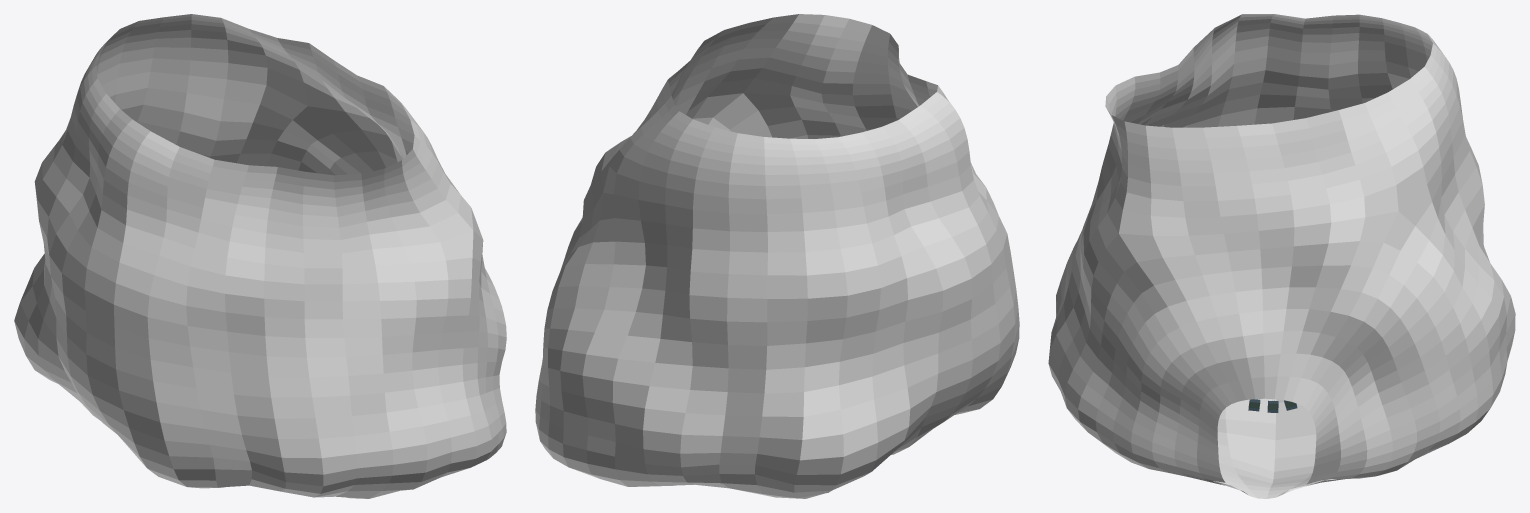
The model's file is Accueil.glb.
3 renders of one model, left to right at view 1: azimuth 30°, elevation 25°; view 2: azimuth 150°, elevation 25°; view 3: azimuth 270°, elevation 25°, orthographic. The views are drawn at different scales.
Visible parts, largest first — view 1: Environements; view 2: Environements; view 3: Environements.
Boxes of the visible parts, box(x1,y1,x2,y2) form: Environements: box(14, 14, 506, 498); Environements: box(535, 14, 1019, 498); Environements: box(1048, 14, 1515, 498).
Size of the model in its own units: 219 by 208 by 247.
Materials: 9 (8 with a texture image).
